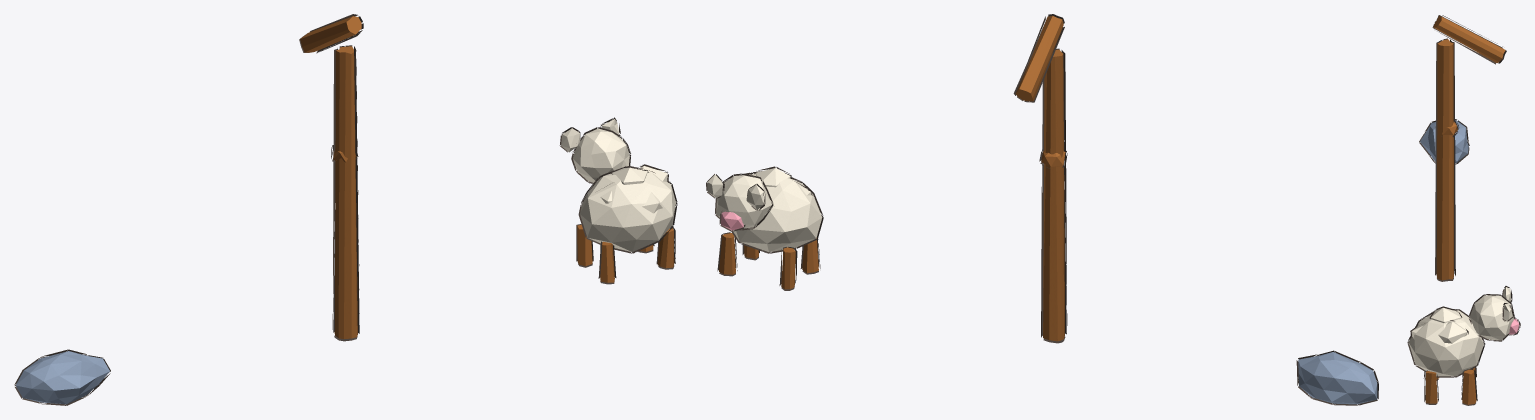
The model's file is wonder_items_v6.glb.
The picture shows the model from 3 angles, left to right: view 1: azimuth 30°, elevation 25°; view 2: azimuth 150°, elevation 25°; view 3: azimuth 270°, elevation 25°; orthographic projection. The views are drawn at different scales.
Visible parts, largest first — view 1: WonderItem_Lamb, WonderItem_Staff, WonderItem_Stone, WonderItem_Staff_Outline, WonderItem_Lamb_Outline; view 2: WonderItem_Lamb, WonderItem_Staff, WonderItem_Stone, WonderItem_Staff_Outline, WonderItem_Lamb_Outline; view 3: WonderItem_Lamb, WonderItem_Staff, WonderItem_Staff_Outline, WonderItem_Lamb_Outline, WonderItem_Stone, WonderItem_Stone_Outline.
Boxes of the visible parts, x1,y1,x2,y2 form: WonderItem_Lamb: (561,119,675,282); WonderItem_Staff: (300,16,361,338); WonderItem_Stone: (15,351,109,404); WonderItem_Staff_Outline: (299,14,363,341); WonderItem_Lamb_Outline: (559,117,677,284); WonderItem_Lamb: (707,168,822,289); WonderItem_Staff: (1015,15,1065,341); WonderItem_Stone: (1298,352,1377,404); WonderItem_Staff_Outline: (1013,14,1067,343); WonderItem_Lamb_Outline: (706,166,823,290); WonderItem_Lamb: (1408,287,1519,404); WonderItem_Staff: (1433,15,1505,280); WonderItem_Staff_Outline: (1432,15,1506,281); WonderItem_Lamb_Outline: (1407,286,1520,405); WonderItem_Stone: (1420,120,1468,163); WonderItem_Stone_Outline: (1419,119,1469,164).
Bounding box in the file's own units: 3.7 × 1.75 × 0.6777.
Materials: 5 (4 with a texture image).
